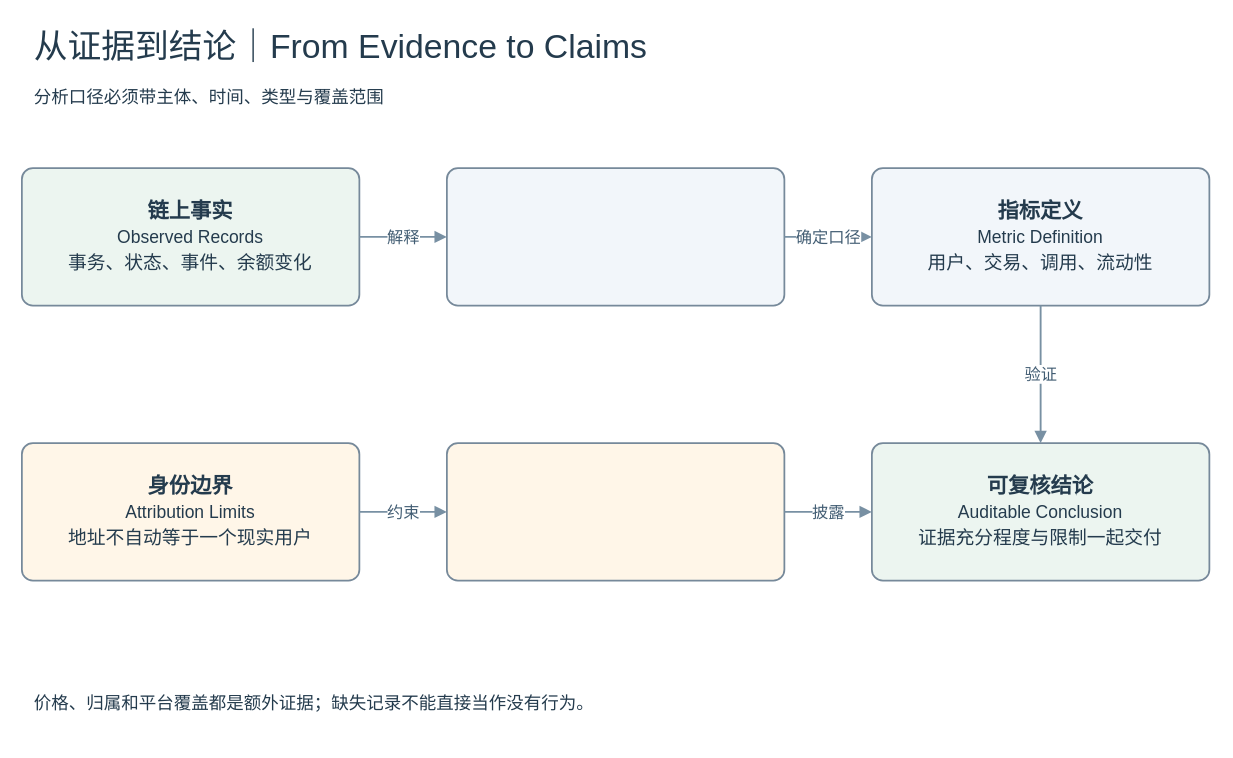
The diagram is 1233 pixels wide and 758 high, and some of its shapes have lost their labels. The centre of each missing label's shape, as x and y in pixels:
"业务解释 Protocol Semantics Package 版本 / 类型 / 合约规则" belongs at point (615, 236).
"数据边界 Coverage Limits 缺失、延迟、历史修剪" belongs at point (615, 511).
